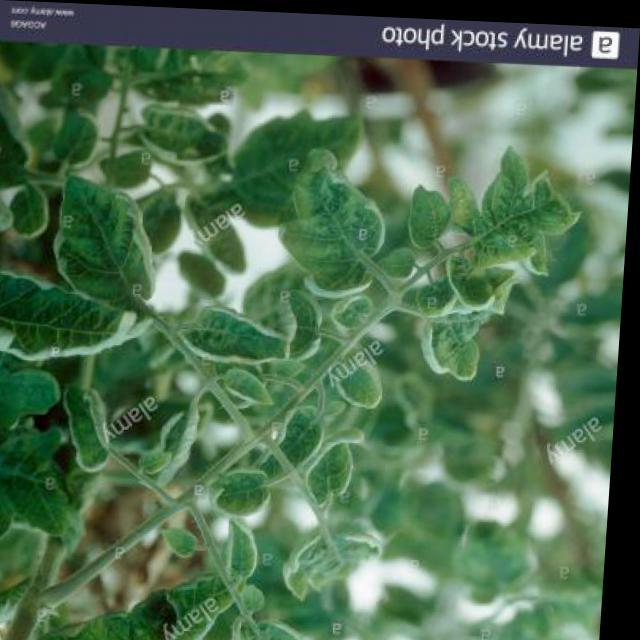Tomato healthy leaf: (0, 232, 164, 398), (456, 140, 603, 292), (270, 132, 401, 299), (56, 175, 168, 317), (390, 274, 516, 384), (294, 491, 386, 615), (231, 389, 330, 502), (170, 290, 302, 366), (62, 376, 152, 482), (304, 360, 441, 415)
